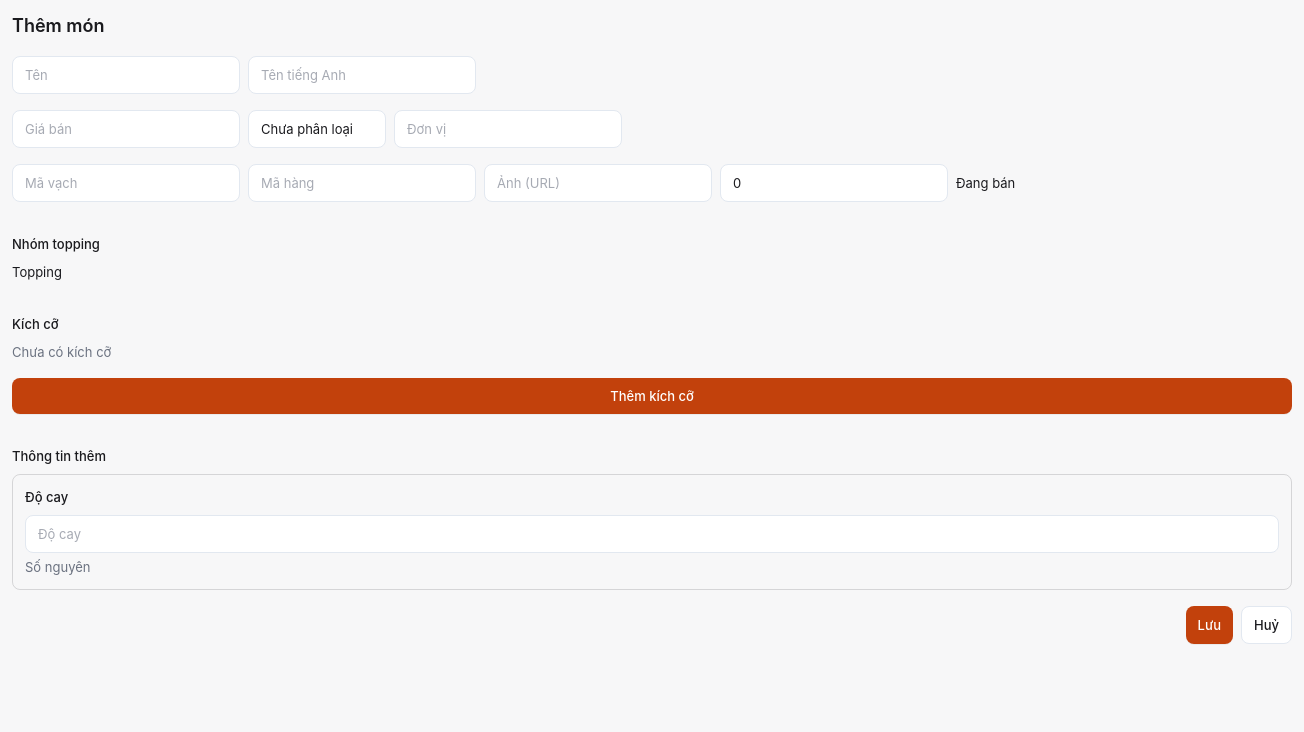
ProductEditor › does not save while a required custom field is empty
The image size is (1304, 732).
Type "Phở chay" into the field with placeholder "Tên" at (126, 75), box [12,56,240,94]
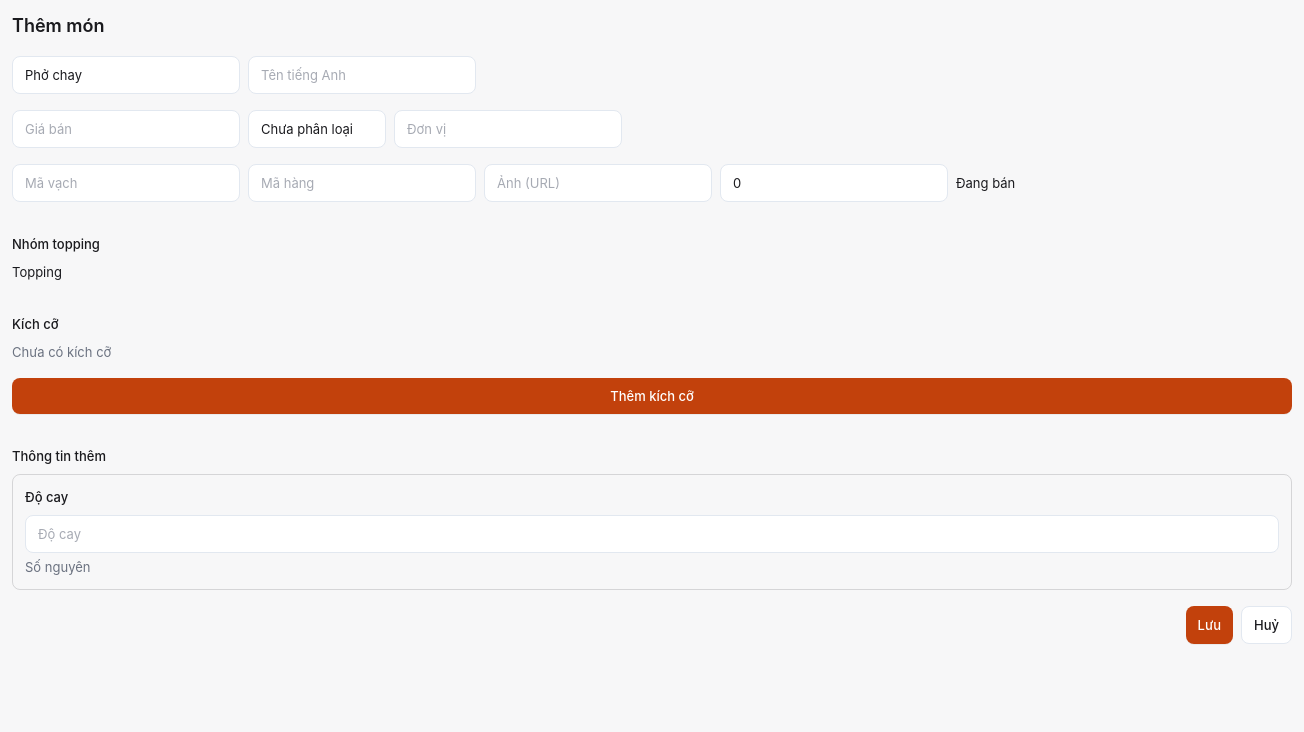
Type "55000" into the number field with placeholder "Giá bán" at (126, 129), box [12,110,240,148]
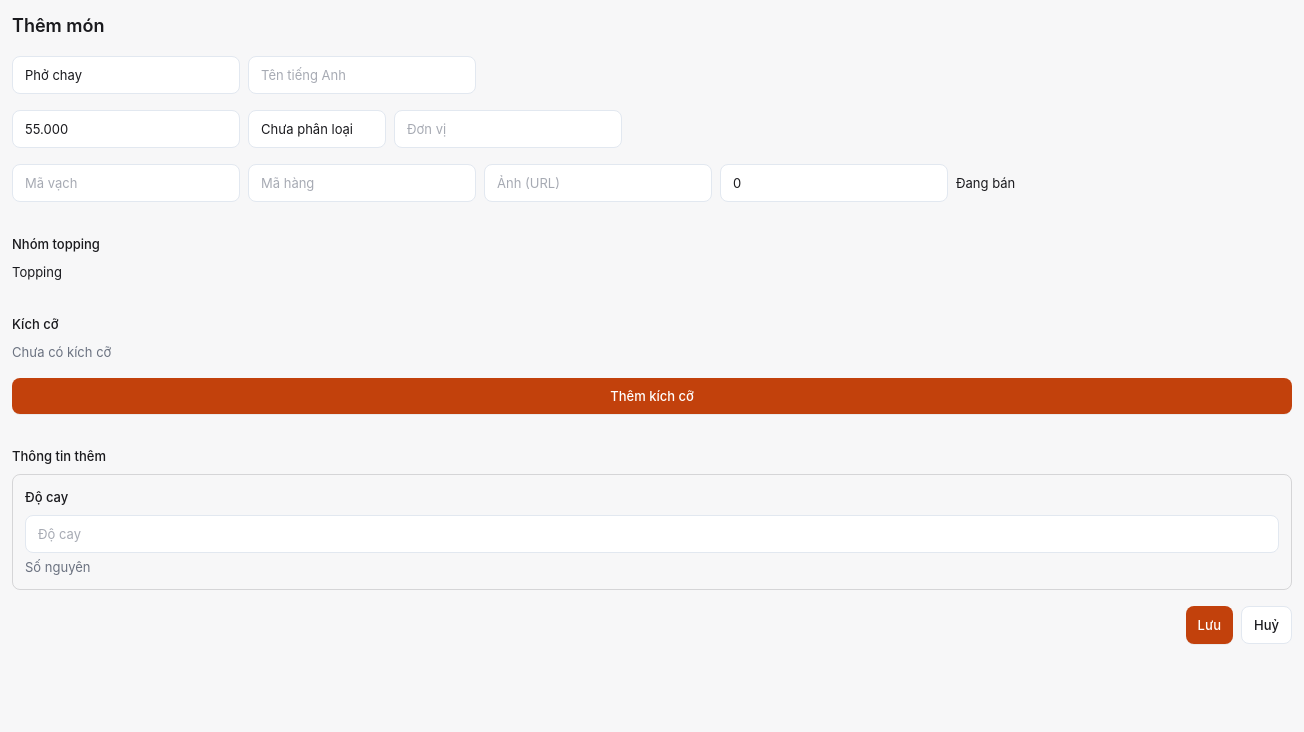
Submit the form
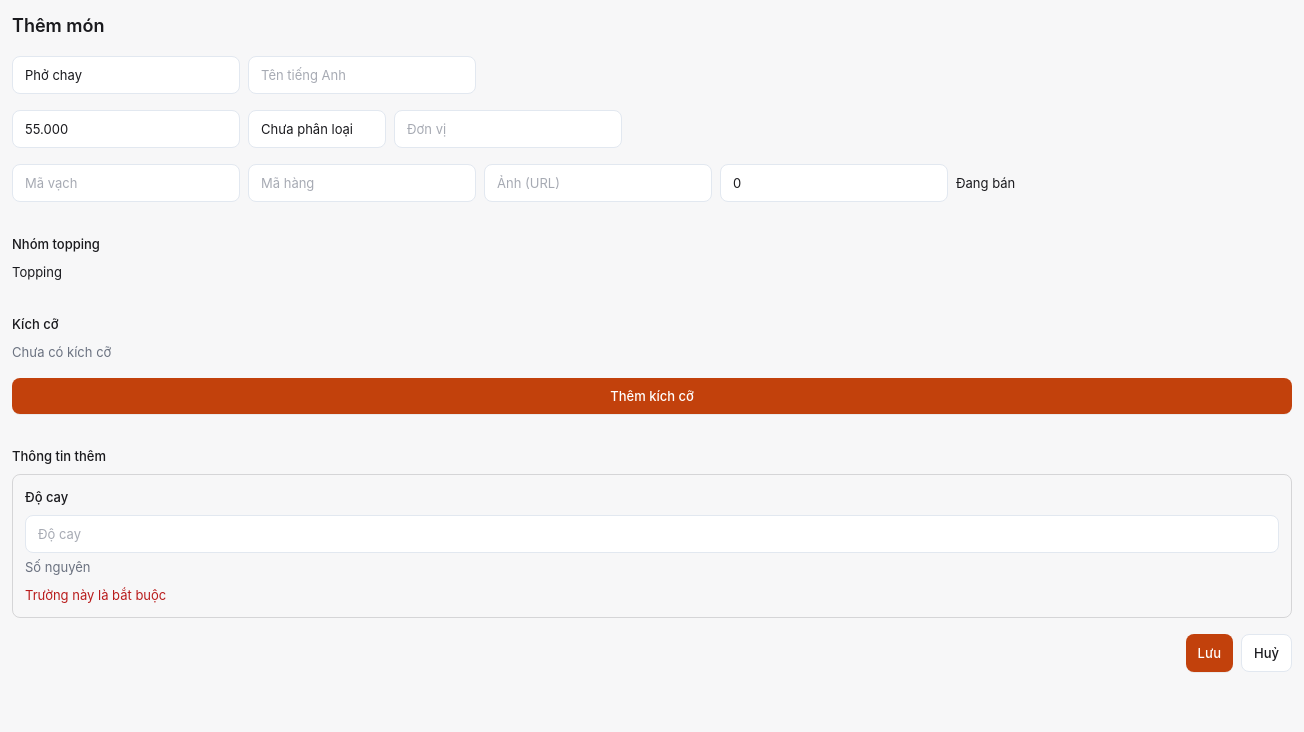
Now the text "Trường này là bắt buộc" is shown, box [25,587,166,603]
